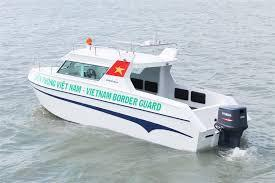Ship: (29, 49, 248, 153)
